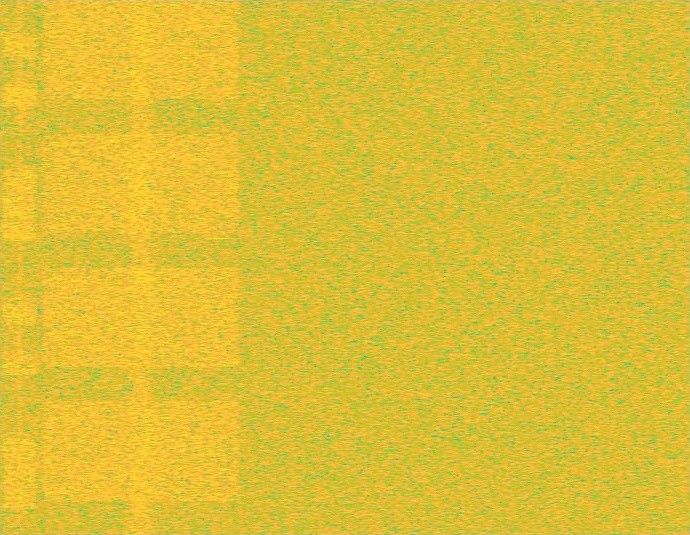5G: (38, 0, 245, 534)
DSSS: (127, 0, 155, 534), (17, 0, 22, 534)
LTE: (3, 0, 37, 534)
Radar: (210, 0, 224, 534)
